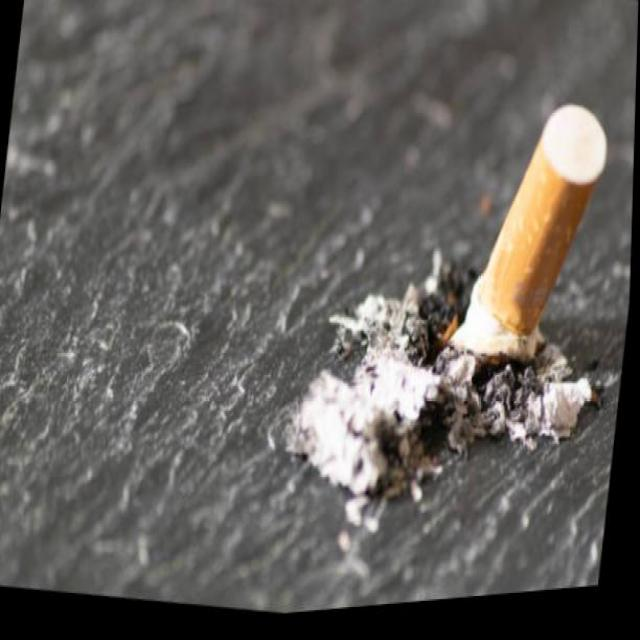cigarette: (421, 86, 618, 444)
